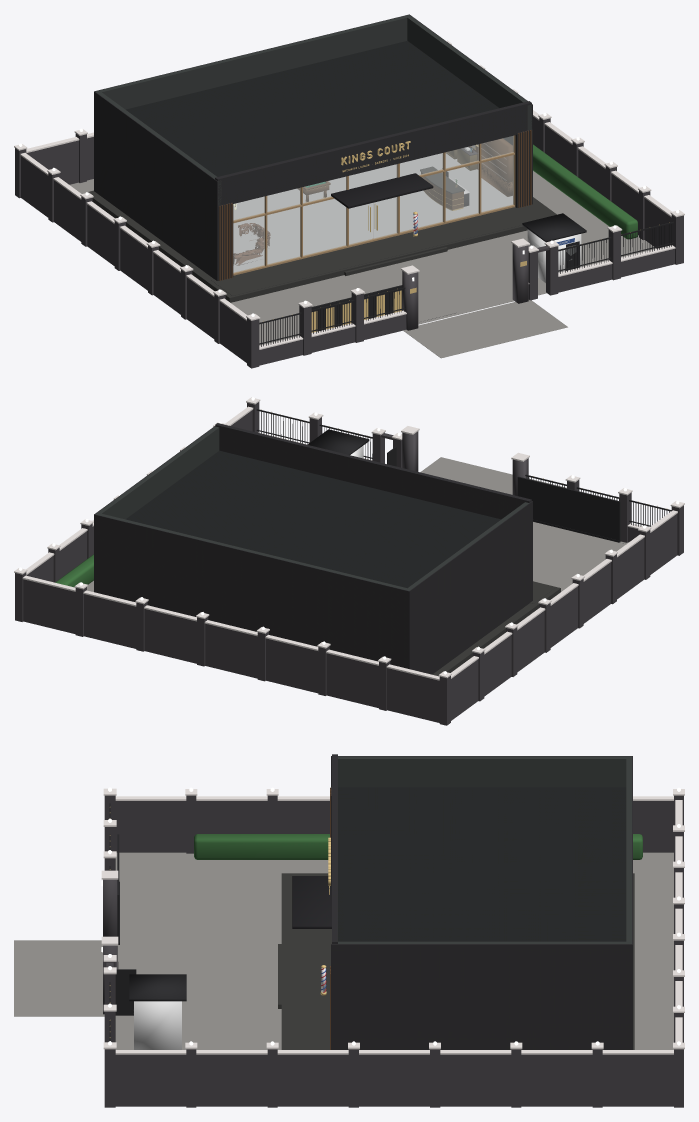
File: set_kings_court.glb
3 renders of one model, top to bottom at view 1: azimuth 30°, elevation 25°; view 2: azimuth 150°, elevation 25°; view 3: azimuth 270°, elevation 25°, orthographic. The views are drawn at different scales.
Parts seen in each view (by area): view 1: GR_set_kings_court, GD_set_kings_court; view 2: GR_set_kings_court; view 3: GR_set_kings_court.
Boxes of the visible parts, x1,y1,x2,y2 form: GR_set_kings_court: (14, 14, 684, 368); GD_set_kings_court: (233, 145, 569, 265); GR_set_kings_court: (14, 397, 684, 725); GR_set_kings_court: (14, 754, 684, 1107).
Size of the model in its own units: 25.54 by 6.01 by 27.95.
19 materials, 5 textured.
